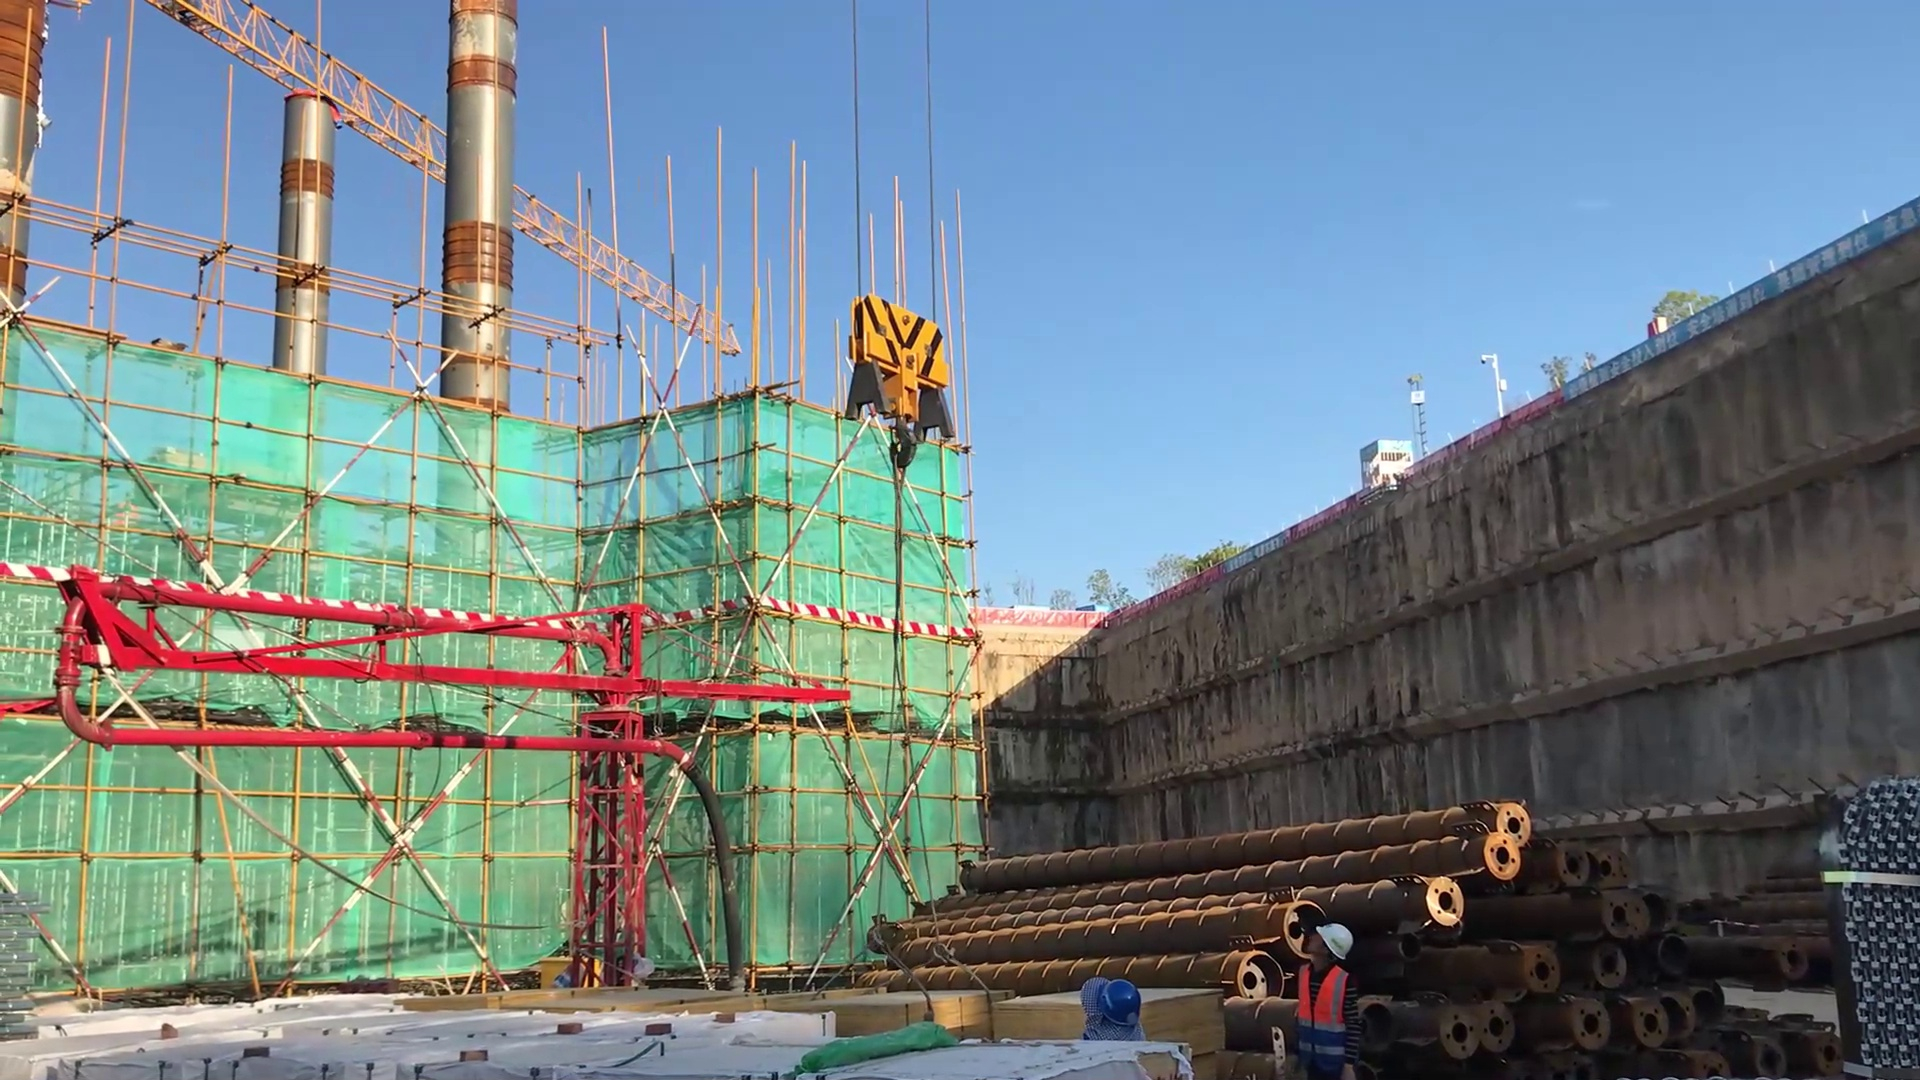board: (988, 976, 1244, 1059), (770, 986, 1007, 1045)
ebox: (538, 956, 606, 998)
helmet: (1087, 965, 1148, 1037), (1311, 920, 1359, 968)
hook: (834, 280, 981, 482)
person: (1291, 906, 1377, 1080)
scaffold: (1820, 766, 1920, 1074), (1, 889, 70, 1038)
slogan: (1548, 186, 1920, 405), (1211, 526, 1302, 596)
vest: (1294, 964, 1353, 1076)
